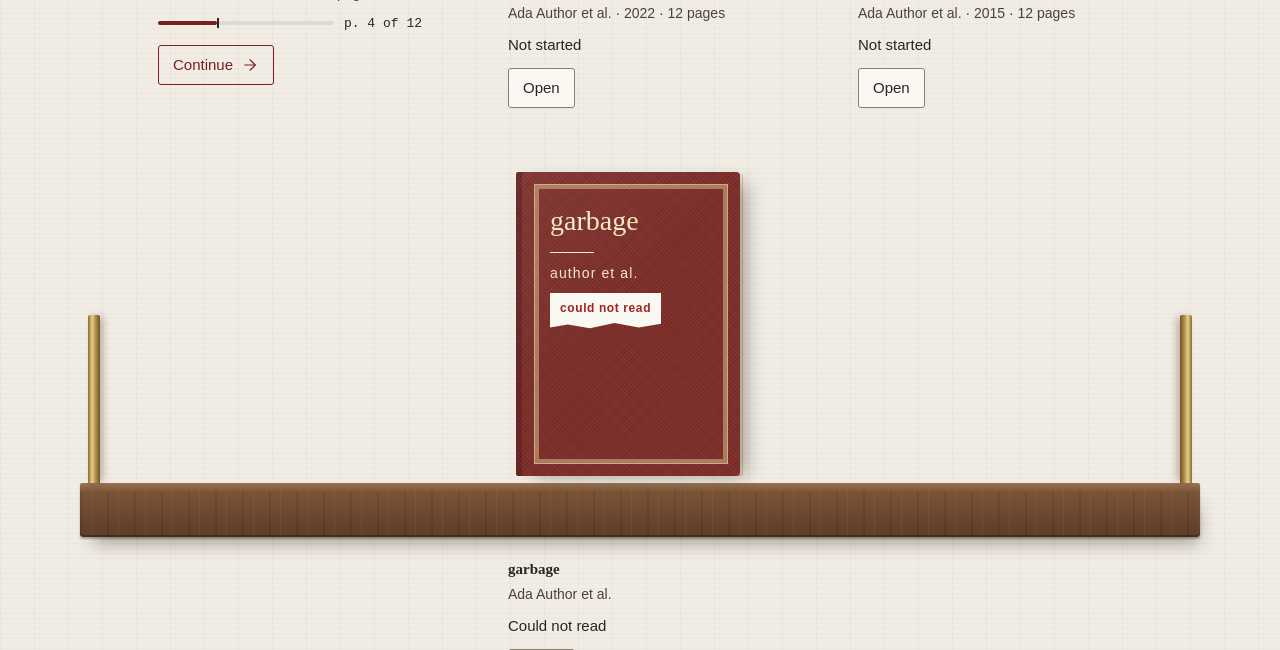
focus never falls to the page (review S4) › after Retry it is on Read
(page scrolled)
Click the button with aria-label "garbage,".
click(628, 324)  # box [516, 172, 740, 476]
(page scrolled)
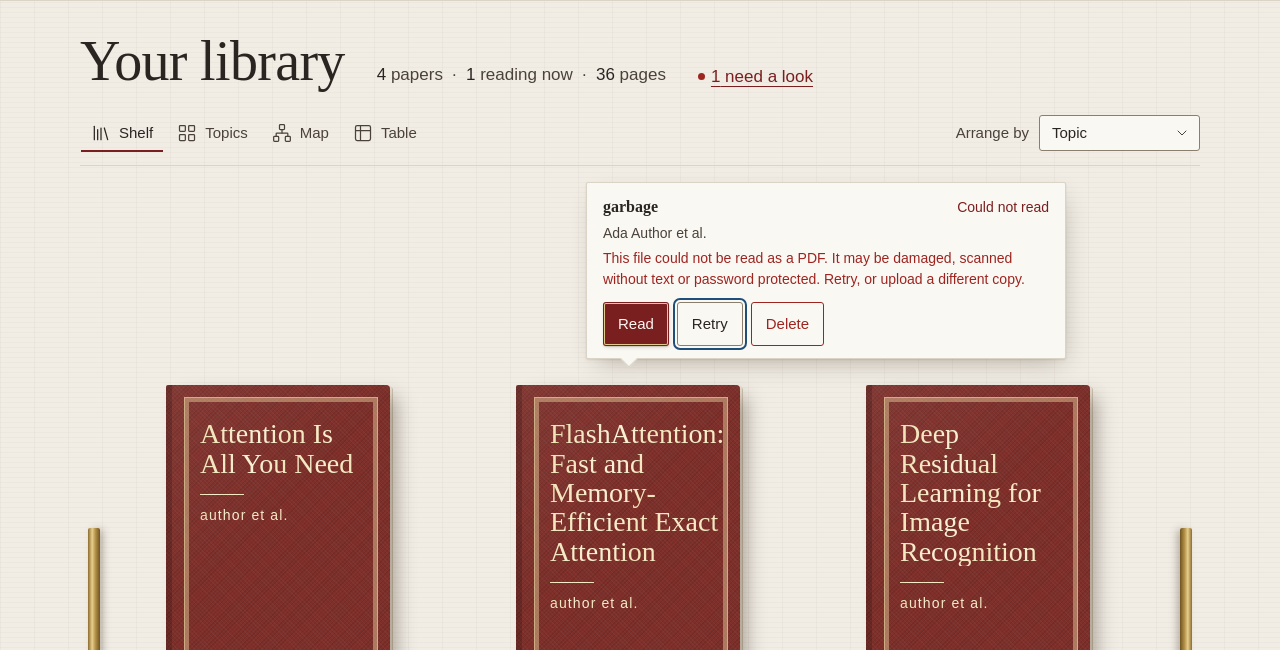
Click the button named "Retry reading garbage".
click(710, 324)  # box [677, 302, 743, 346]
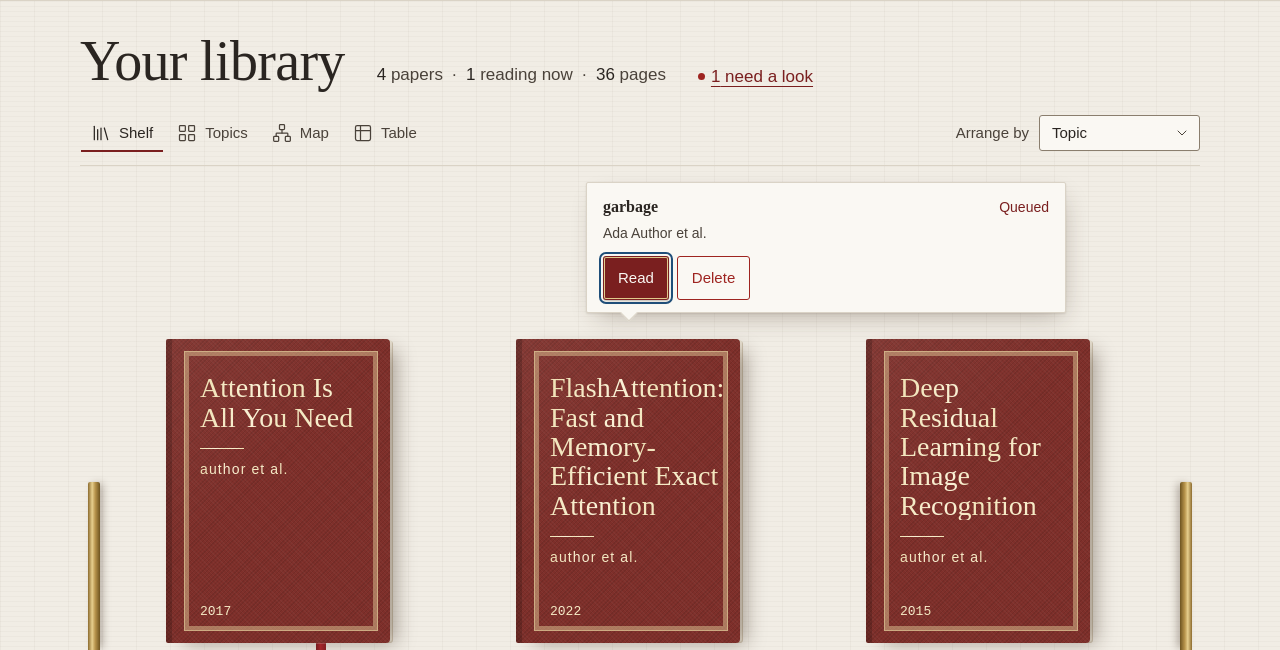
Check: the button "Retry" is gone
